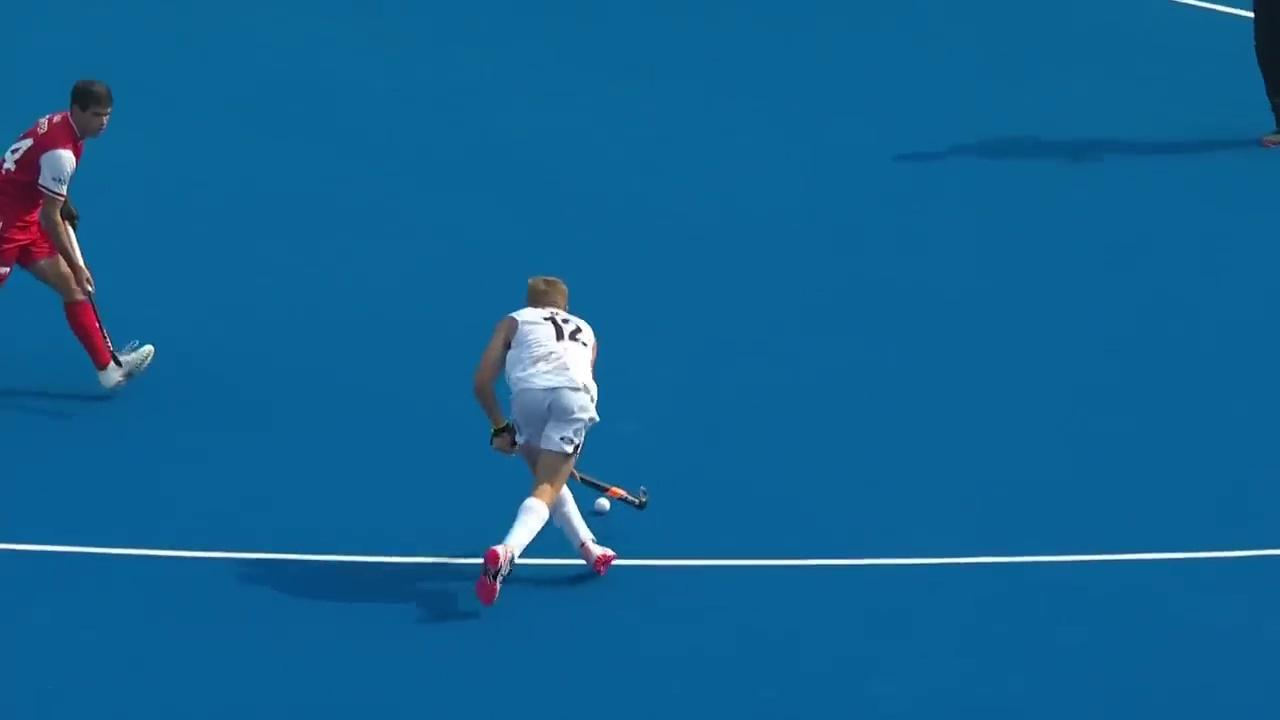ball: (590, 487, 614, 526)
